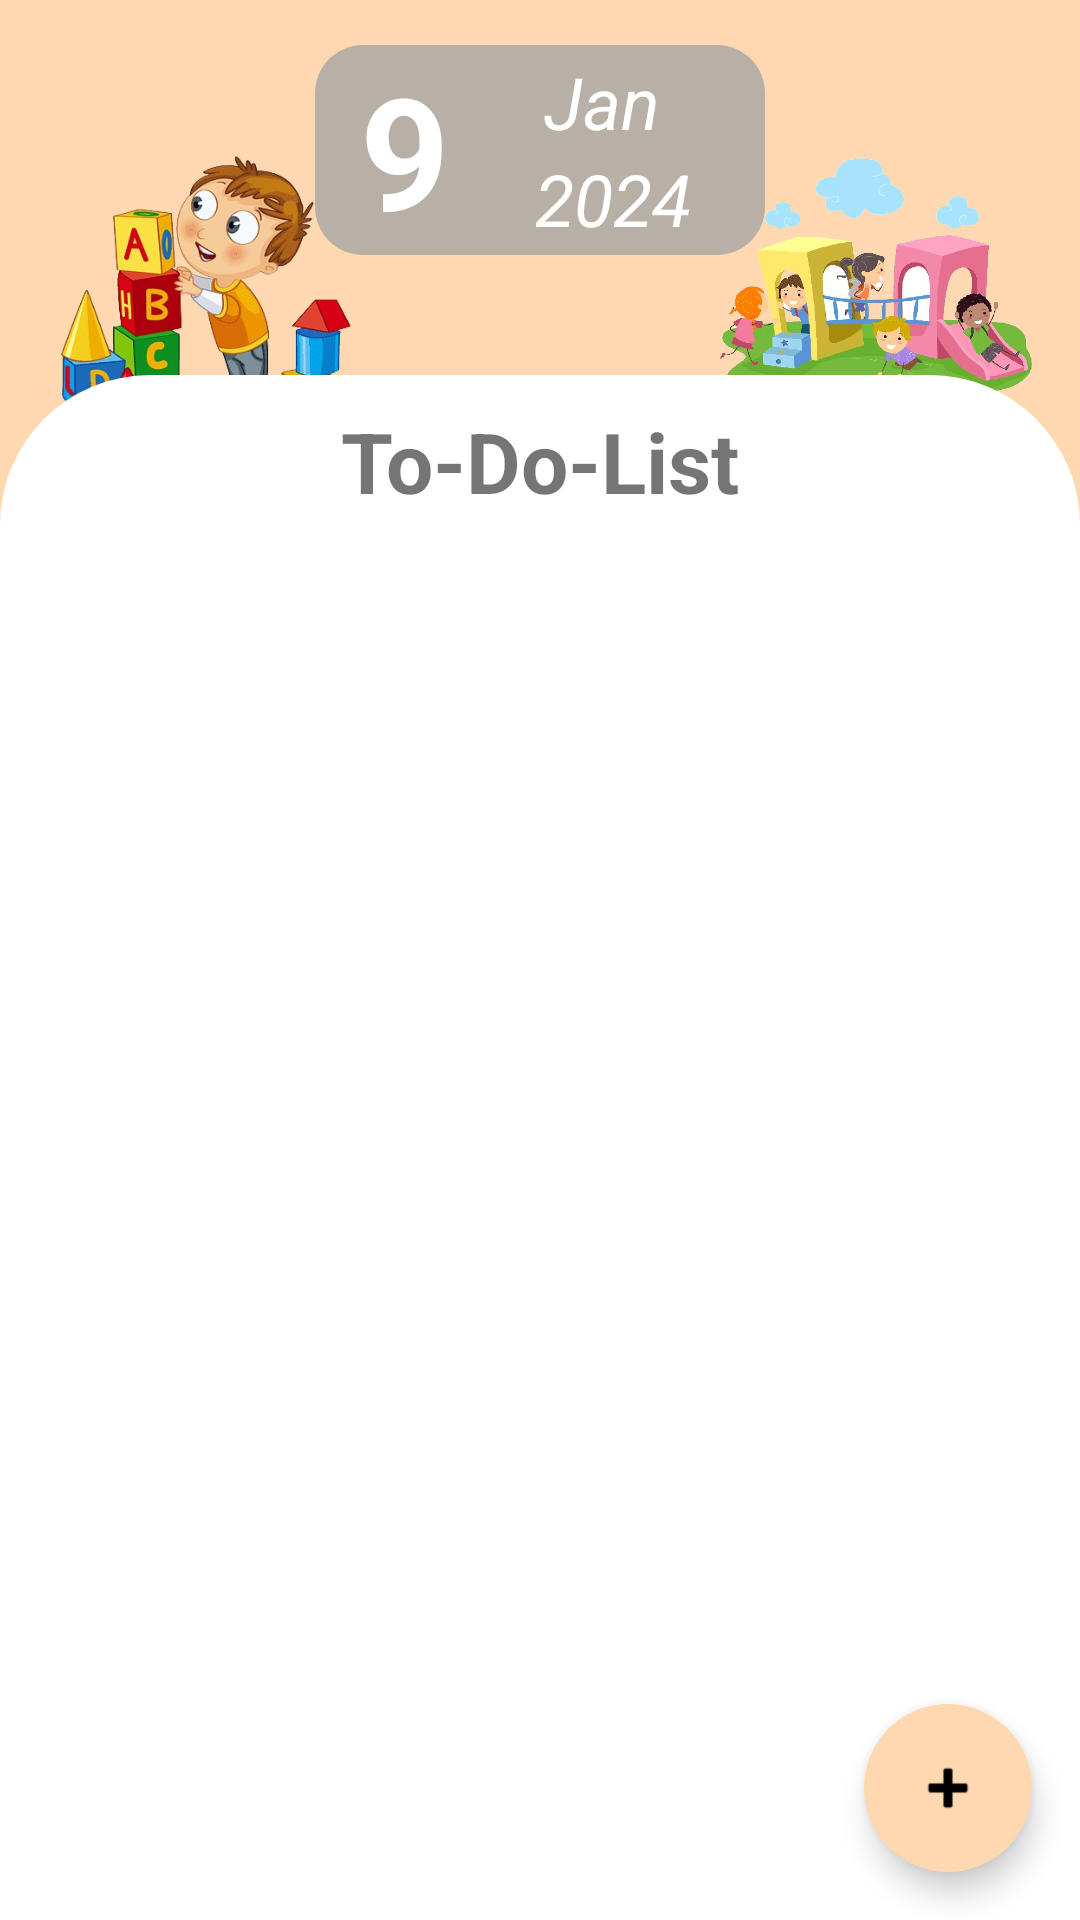

Icons on this 1080*1920 Android screen, each with its box as [x1, y1, x2, y2]:
Add to-do list: [864, 1704, 1032, 1872]
